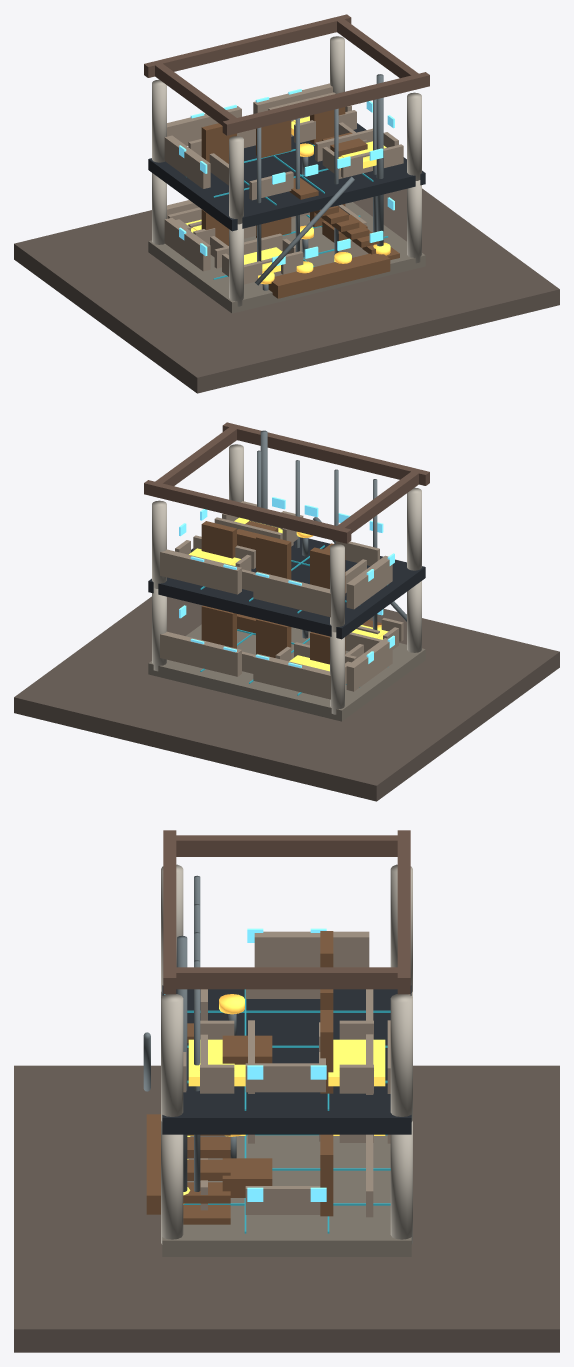
3 views of the same model, one above another, from view 1: azimuth 30°, elevation 25°; view 2: azimuth 150°, elevation 25°; view 3: azimuth 270°, elevation 25° (orthographic). The views are drawn at different scales.
Parts seen in each view (by area): view 1: ProfileGround.018, BuildingFloor_2.013, BuildingFloor_1.013, RoofEaveSouth_visual_warehouse, RoofEaveNorth_visual_warehouse, WarehouseLoadingDock_visual_warehouse, RoofEaveWest_visual_warehouse, RoofEaveEast_visual_warehouse, SideWall_2.013, SideWall_1.013, Column_2_1_-1.013, Column_2_-1_-1.013 (+20 smaller); view 2: ProfileGround.018, BuildingFloor_2.013, BuildingFloor_1.013, RoofEaveNorth_visual_warehouse, RoofEaveSouth_visual_warehouse, BackWall_2_1.013, BackWall_1_1.013, BackWall_1_-1.013, BackWall_2_-1.013, WarehouseRack_visual_warehouse_1_1, RoofEaveWest_visual_warehouse, RoofEaveEast_visual_warehouse (+17 smaller); view 3: ProfileGround.018, BuildingFloor_2.013, BuildingFloor_1.013, RoofEaveEast_visual_warehouse, RoofEaveWest_visual_warehouse, SideWall_2.013, Column_2_1_-1.013, Column_2_1_1.013, Column_1_1_-1.013, Column_1_1_1.013, RoofEaveNorth_visual_warehouse, RoofEaveSouth_visual_warehouse (+21 smaller).
Part boxes in pixels (x1=…): ProfileGround.018: x1=14, y1=188, x2=559, y2=393; BuildingFloor_2.013: x1=148, y1=123, x2=425, y2=231; BuildingFloor_1.013: x1=148, y1=202, x2=425, y2=313; RoofEaveSouth_visual_warehouse: x1=222, y1=72, x2=429, y2=135; RoofEaveNorth_visual_warehouse: x1=144, y1=14, x2=351, y2=77; WarehouseLoadingDock_visual_warehouse: x1=268, y1=253, x2=390, y2=298; RoofEaveWest_visual_warehouse: x1=155, y1=63, x2=236, y2=125; RoofEaveEast_visual_warehouse: x1=337, y1=19, x2=418, y2=78; SideWall_2.013: x1=164, y1=135, x2=210, y2=188; SideWall_1.013: x1=164, y1=218, x2=210, y2=271; Column_2_1_-1.013: x1=407, y1=92, x2=421, y2=180; Column_2_-1_-1.013: x1=229, y1=136, x2=243, y2=224; ProfileGround.018: x1=14, y1=596, x2=559, y2=801; BuildingFloor_2.013: x1=148, y1=537, x2=425, y2=639; BuildingFloor_1.013: x1=148, y1=624, x2=425, y2=721; RoofEaveNorth_visual_warehouse: x1=144, y1=480, x2=351, y2=543; RoofEaveSouth_visual_warehouse: x1=222, y1=422, x2=429, y2=485; BackWall_2_1.013: x1=160, y1=549, x2=241, y2=594; BackWall_1_1.013: x1=160, y1=631, x2=241, y2=676; BackWall_1_-1.013: x1=253, y1=654, x2=330, y2=699; BackWall_2_-1.013: x1=253, y1=571, x2=330, y2=617; WarehouseRack_visual_warehouse_1_1: x1=256, y1=534, x2=291, y2=579; RoofEaveWest_visual_warehouse: x1=337, y1=471, x2=418, y2=533; RoofEaveEast_visual_warehouse: x1=155, y1=427, x2=236, y2=486; ProfileGround.018: x1=14, y1=1065, x2=559, y2=1352; BuildingFloor_2.013: x1=162, y1=985, x2=411, y2=1134; BuildingFloor_1.013: x1=162, y1=1135, x2=411, y2=1256; RoofEaveEast_visual_warehouse: x1=174, y1=967, x2=399, y2=989; RoofEaveWest_visual_warehouse: x1=174, y1=835, x2=398, y2=856; SideWall_2.013: x1=254, y1=931, x2=369, y2=967; Column_2_1_-1.013: x1=161, y1=994, x2=183, y2=1121; Column_2_1_1.013: x1=390, y1=994, x2=412, y2=1121; Column_1_1_-1.013: x1=161, y1=1121, x2=183, y2=1244; Column_1_1_1.013: x1=390, y1=1121, x2=412, y2=1244; RoofEaveNorth_visual_warehouse: x1=397, y1=830, x2=410, y2=994; RoofEaveSouth_visual_warehouse: x1=163, y1=830, x2=176, y2=994.
Bounding box in the file's own units: 4.8 × 2.76 × 4.2.
